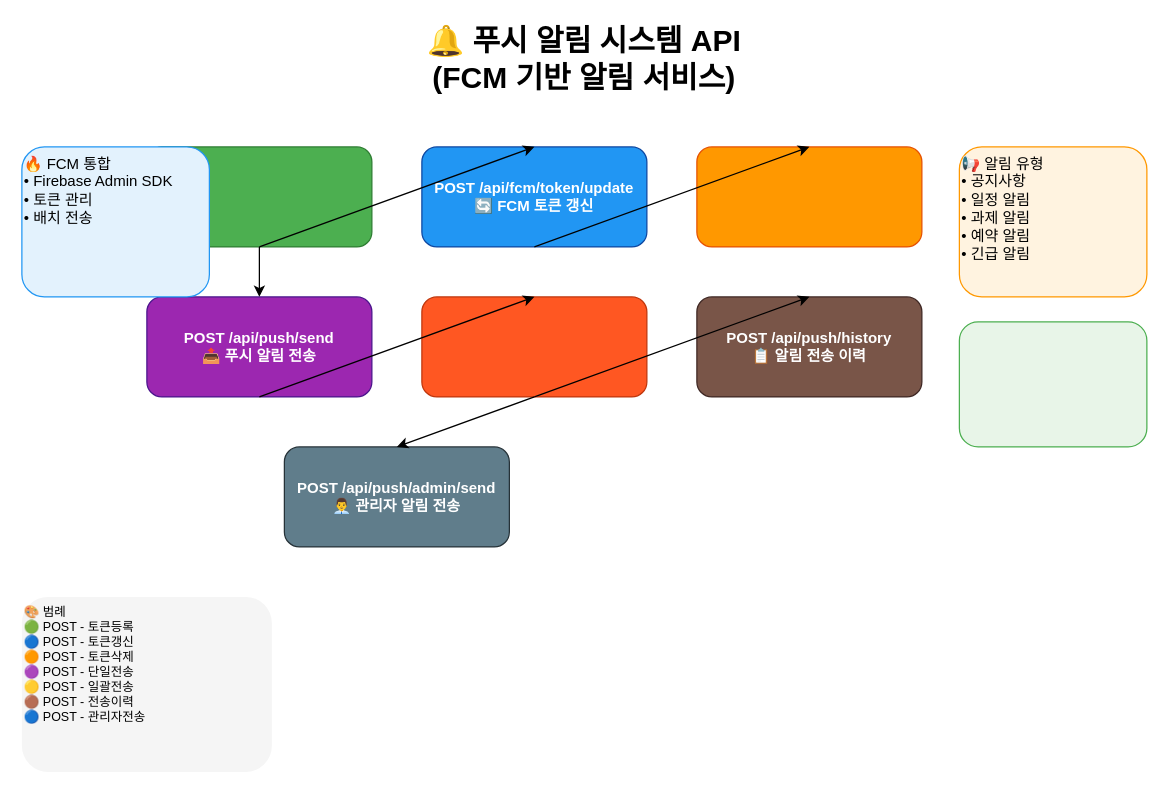
Some shapes in this 1169 by 793 pixel diagram are drawn without their labels. Here are the shapes that lost their labels. From the top down, the centre of each, then its label:
At [259,196]: "POST /api/fcm/token/register 📱 FCM 토큰 등록".
At [809,196]: "POST /api/fcm/token/delete 🗑️ FCM 토큰 삭제".
At [534,346]: "POST /api/push/send-batch 📤 일괄 푸시 전송".
At [1052,384]: "📊 전송 추적 • 성공/실패 상태 • 전송 시간 • 재시도 로직".
